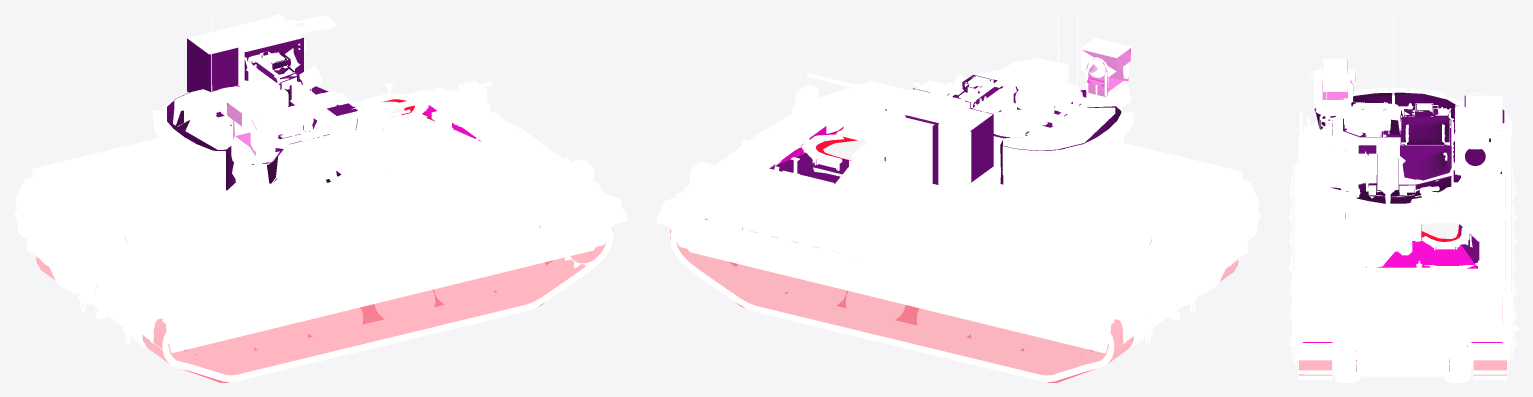
3 renders of one model, left to right at view 1: azimuth 30°, elevation 25°; view 2: azimuth 150°, elevation 25°; view 3: azimuth 270°, elevation 25°, orthographic. The views are drawn at different scales.
Parts seen in each view (by area): view 1: M7A3001_1, M7A3001_4, BFV_Righttrack_COL_77, M7A3001_2, M7A3001_5, M7A3001_6, BFIST_col_62, BFV_turret_col_56, M7A3001_3; view 2: M7A3001_1, M7A3001_4, BFV_Lefttrack_COL_74, M7A3001_5, M7A3001, M7A3001_6, BFIST_col_62, BFV_turret_col_56, BFV_CmdrScope_Col_84, BFV_COL002; view 3: M7A3001_1, M7A3001_4, BFV_turret_col_56, M7A3001_5, M7A3001_6, BFV_COL002_1, M7A3001_3, M7A3001, M7A3001_2, BFIST_col_62, BFV_Righttrack_COL_77, BFV_Lefttrack_COL_74 (+2 smaller).
Boxes of the visible parts, bbox=[...] form: M7A3001_1: bbox=[14, 80, 627, 373]; M7A3001_4: bbox=[152, 18, 397, 191]; BFV_Righttrack_COL_77: bbox=[142, 226, 612, 382]; M7A3001_2: bbox=[142, 226, 613, 382]; M7A3001_5: bbox=[187, 14, 335, 85]; M7A3001_6: bbox=[227, 93, 278, 164]; BFIST_col_62: bbox=[187, 37, 303, 92]; BFV_turret_col_56: bbox=[167, 51, 383, 190]; M7A3001_3: bbox=[314, 81, 492, 122]; M7A3001_1: bbox=[656, 80, 1260, 373]; M7A3001_4: bbox=[935, 14, 1134, 190]; BFV_Lefttrack_COL_74: bbox=[670, 218, 1133, 382]; M7A3001_5: bbox=[857, 84, 992, 188]; M7A3001: bbox=[670, 219, 1134, 381]; M7A3001_6: bbox=[1080, 38, 1130, 107]; BFIST_col_62: bbox=[884, 88, 993, 184]; BFV_turret_col_56: bbox=[947, 75, 1121, 184]; BFV_CmdrScope_Col_84: bbox=[1082, 48, 1130, 96]; BFV_COL002: bbox=[769, 153, 848, 183]; M7A3001_1: bbox=[1289, 98, 1518, 382]; M7A3001_4: bbox=[1310, 14, 1458, 198]; BFV_turret_col_56: bbox=[1314, 92, 1460, 203]; M7A3001_5: bbox=[1453, 92, 1511, 175]; M7A3001_6: bbox=[1309, 58, 1354, 115]; BFV_COL002_1: bbox=[1302, 242, 1502, 371]; M7A3001_3: bbox=[1365, 143, 1399, 233]; M7A3001: bbox=[1473, 175, 1507, 380]; M7A3001_2: bbox=[1298, 360, 1332, 380]; BFIST_col_62: bbox=[1454, 95, 1504, 174]; BFV_Righttrack_COL_77: bbox=[1299, 360, 1331, 375]; BFV_Lefttrack_COL_74: bbox=[1474, 360, 1506, 375].
Bounding box in the file's own units: 7.38 × 4.45 × 3.59.
